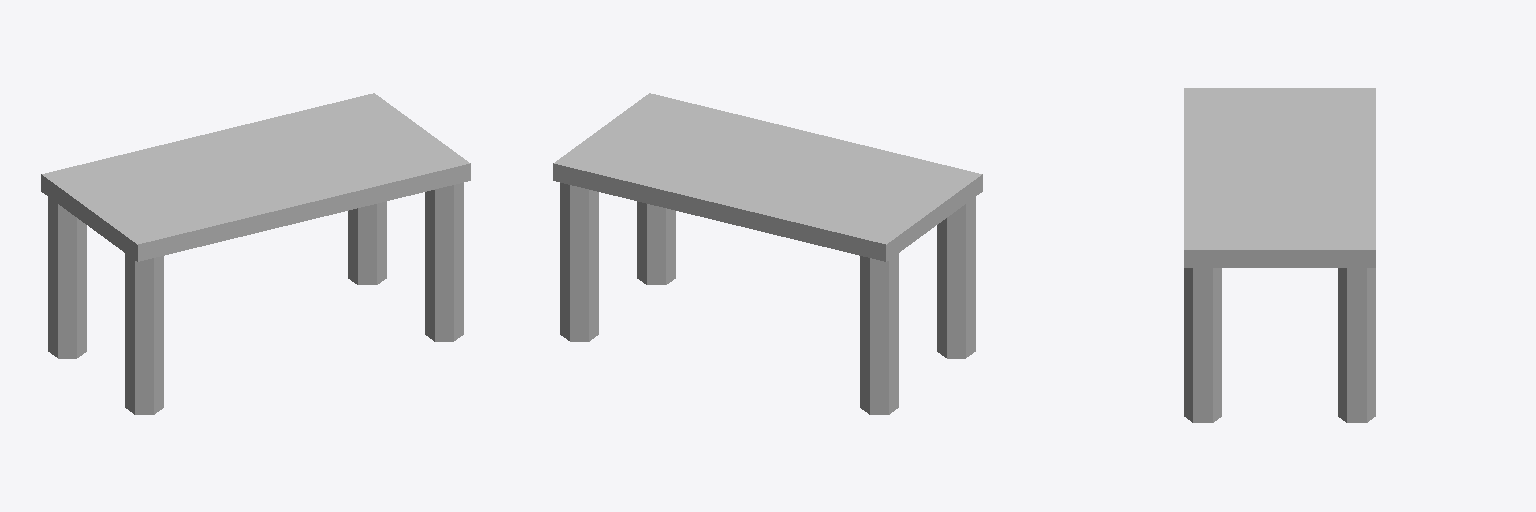
Rendered from table.obj.
The picture shows the model from 3 angles: view 1: azimuth 30°, elevation 25°; view 2: azimuth 150°, elevation 25°; view 3: azimuth 270°, elevation 25°; orthographic projection.
Parts seen in each view (by area): view 1: Cube; view 2: Cube; view 3: Cube.
Part boxes in pixels (bbox=[...]): Cube: bbox=[41, 93, 470, 414]; Cube: bbox=[553, 93, 982, 414]; Cube: bbox=[1184, 88, 1375, 422].
Bounding box in the file's own units: 2 × 1 × 1.